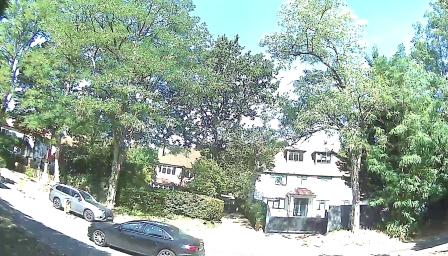Cars: (91, 211, 210, 256), (48, 176, 119, 228)
